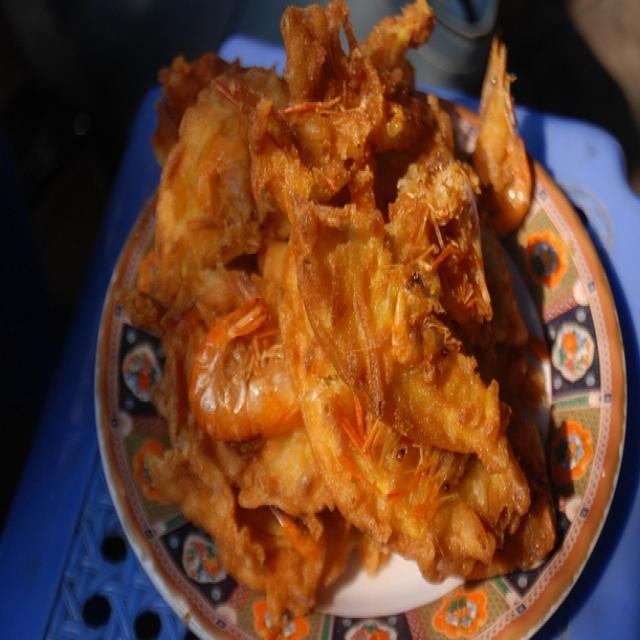炸货点心: (95, 13, 626, 618)
熟制海鲜: (95, 13, 626, 618)
